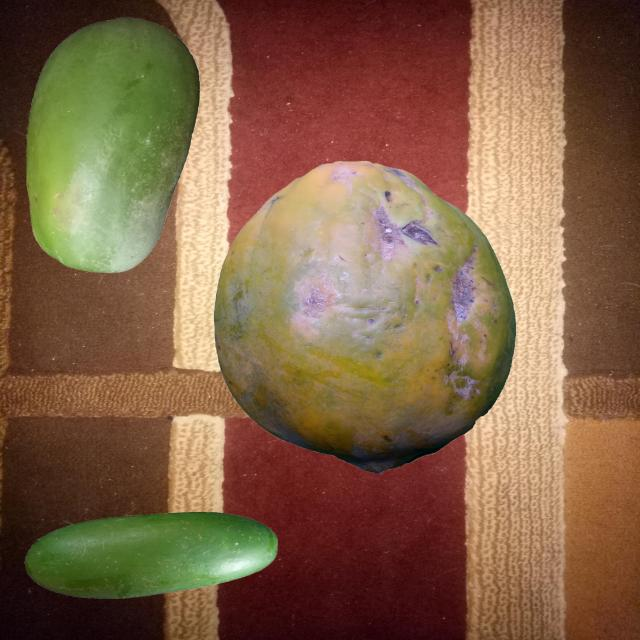Pepaya rippen: (213, 155, 512, 478)
Pepaya unrippen: (26, 16, 213, 274), (14, 516, 282, 604)
